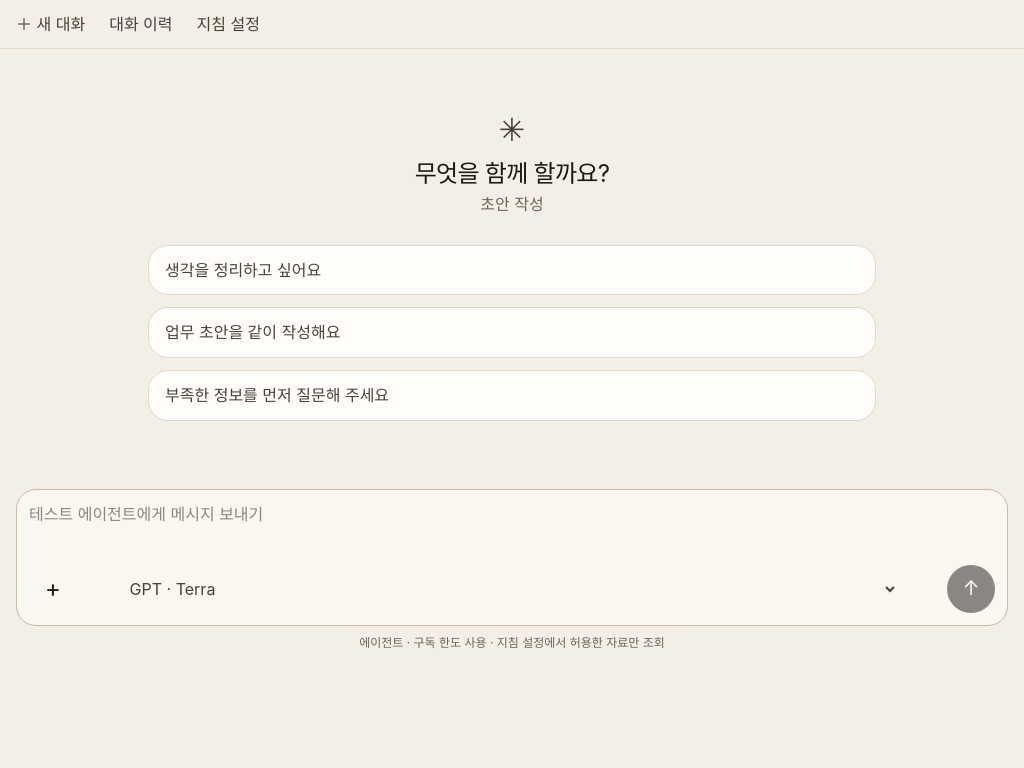
Test case: agent conversation interactions › saves selected read permissions separately from instructions
Check: the heading "무엇을 함께 할까요?" is shown, box [415,159,609,188]
Step 1. Click the button "지침 설정" → (228, 24), box [189,0,268,48]
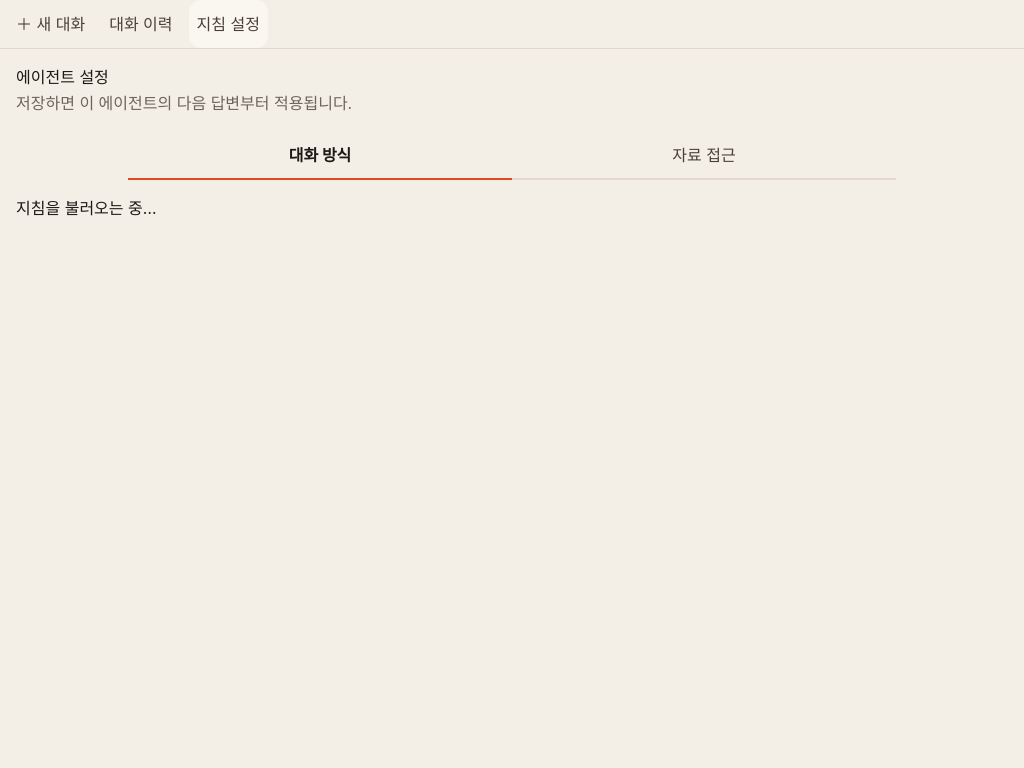
Step 2. Click the tab "자료 접근" → (704, 156), box [512,132,896,180]
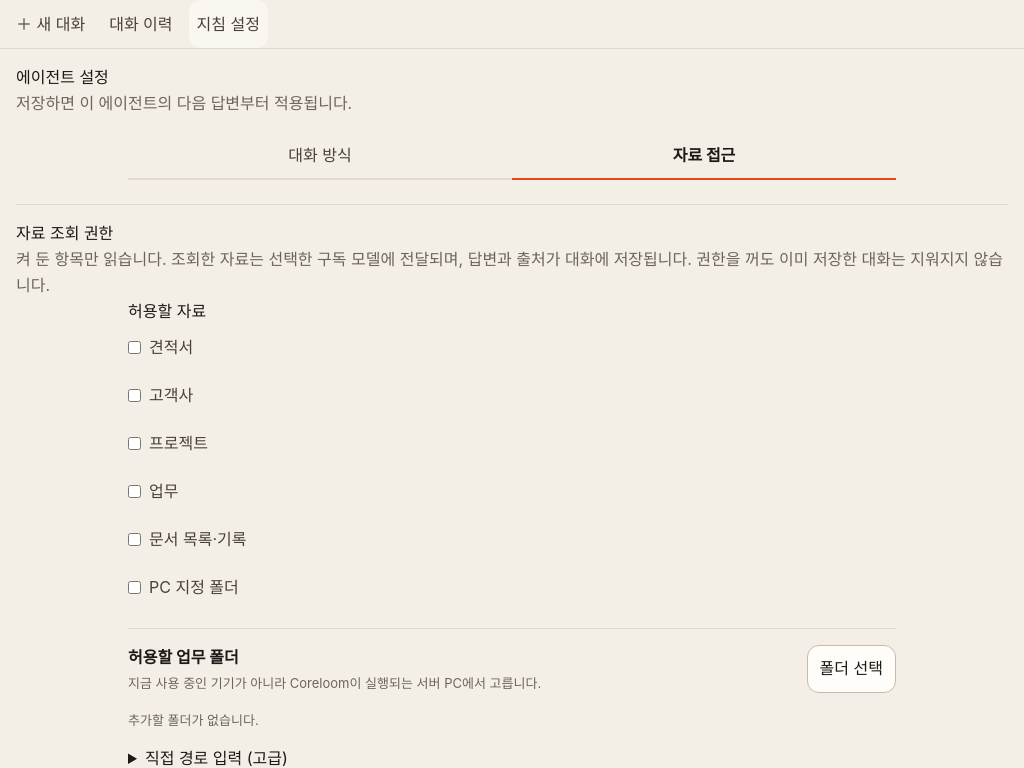
Check: the checkbox labelled "견적서" is not checked
Step 3. Click the checkbox labelled "견적서" → (134, 348), box [128,341,141,354]
(page scrolled)
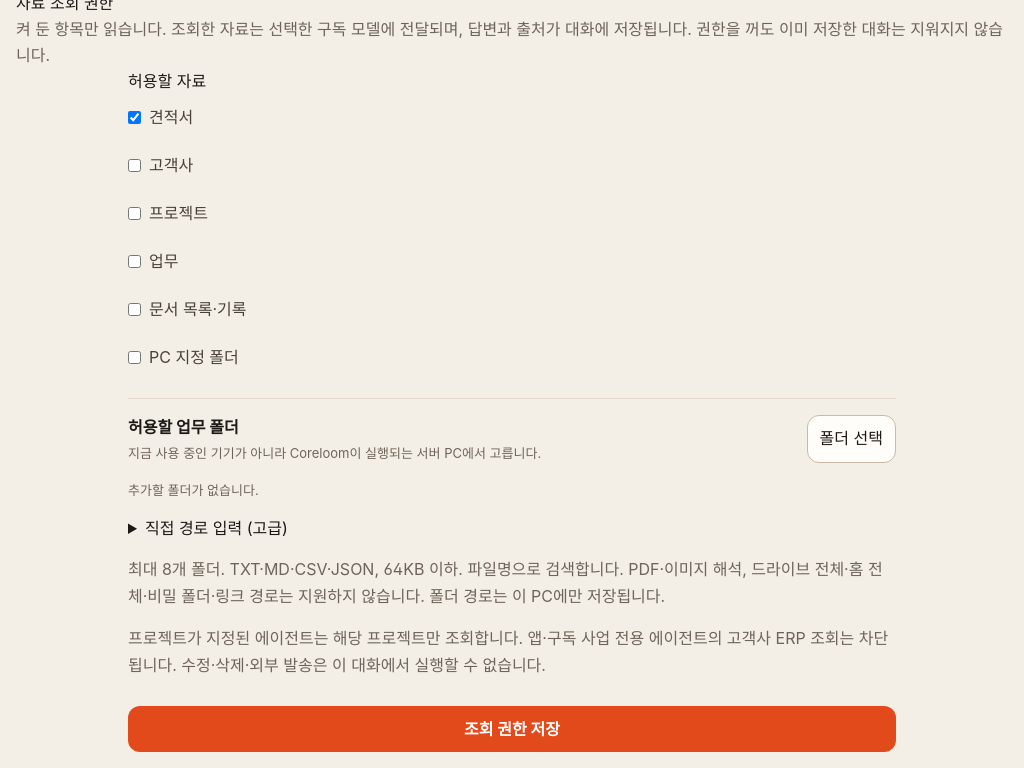
Step 4. Click the button "조회 권한 저장" → (512, 729), box [128,706,896,752]
(page scrolled)
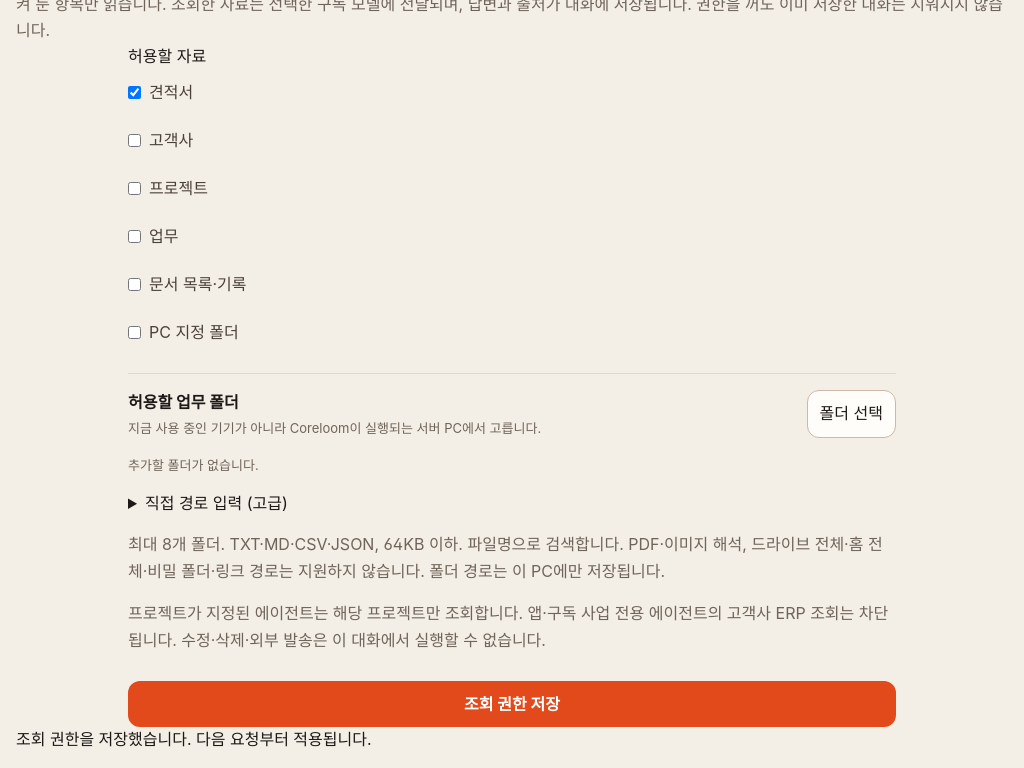
Check: the text "조회 권한을 저장했습니다. 다음 요청부터 적용됩니다." is shown, box [16,729,372,749]
